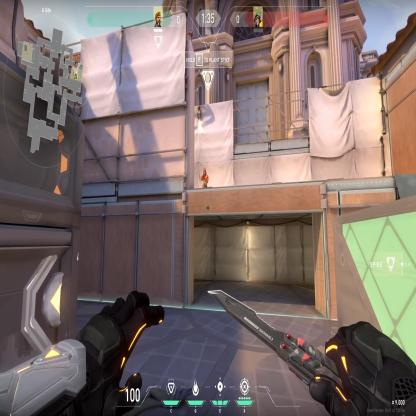enemy: (200, 166, 209, 188)
